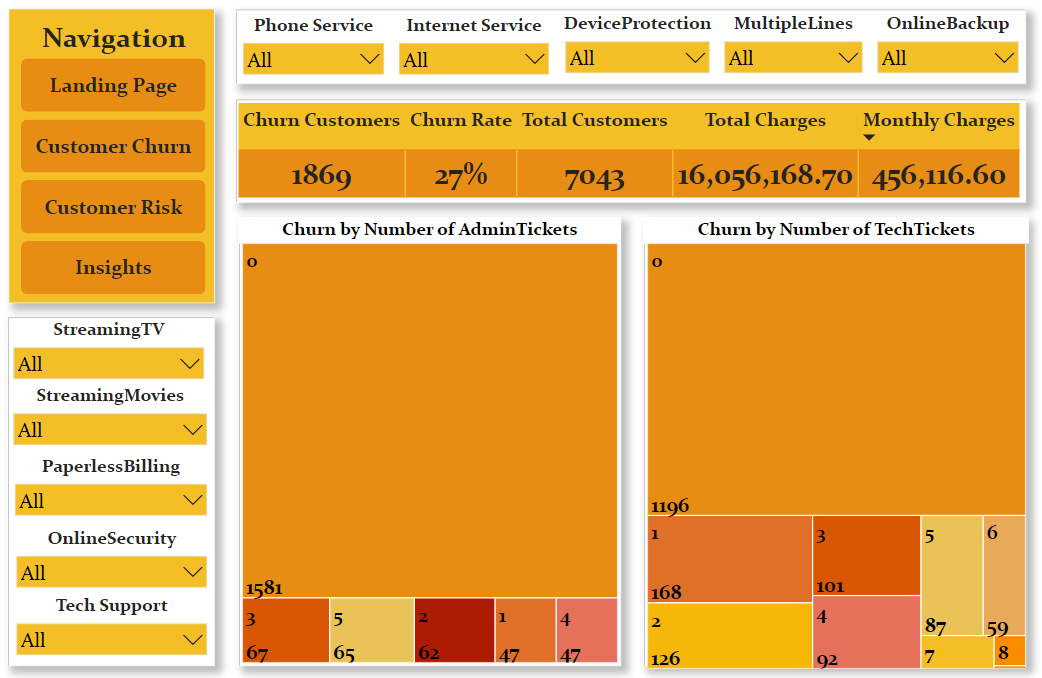

This screenshot's page, from the dashboard's own definition file:
{"tool":"powerbi","page":{"name":"Services","canvas":[1400,915],"ordinal":3},"visuals":[{"type":"shape","box":[14,430,276,466],"z":0},{"type":"shape","box":[318,140,1054,138],"z":1000},{"type":"shape","box":[318,20,1054,100],"z":2000},{"type":"slicer","title":"Tech Support","fields":{"Values":["02 Churn-Dataset.TechSupport"]},"box":[16,800,274,104],"z":3000},{"type":"slicer","title":"StreamingTV","fields":{"Values":["02 Churn-Dataset.StreamingTV"]},"box":[12,432,274,94],"z":4000},{"type":"slicer","title":"StreamingMovies","fields":{"Values":["02 Churn-Dataset.StreamingMovies"]},"box":[12,520,278,94],"z":5000},{"type":"slicer","title":"MultipleLines","fields":{"Values":["02 Churn-Dataset.MultipleLines"]},"box":[960,24,204,90],"z":6000},{"type":"slicer","title":"OnlineSecurity","fields":{"Values":["02 Churn-Dataset.OnlineSecurity"]},"box":[16,710,274,90],"z":7000},{"type":"slicer","title":"OnlineBackup","fields":{"Values":["02 Churn-Dataset.OnlineBackup"]},"box":[1164,24,208,92],"z":8000},{"type":"slicer","title":"PaperlessBilling","fields":{"Values":["02 Churn-Dataset.PaperlessBilling"]},"box":[14,614,276,90],"z":9000},{"type":"slicer","title":"Internet Service","fields":{"Values":["02 Churn-Dataset.InternetService"]},"box":[526,26,220,120],"z":10000},{"type":"slicer","title":"Phone Service","fields":{"Values":["02 Churn-Dataset.PhoneService"]},"box":[318,26,208,118],"z":11000},{"type":"tableEx","fields":{"Values":["Dax Measure.Churn Customers","Dax Measure.Churn Rate","Dax Measure.Total Customers","Dax Measure.Sum of Total Charges","Dax Measure.Total Monthly Charges"]},"box":[316,140,1064,138],"z":12000},{"type":"shape","box":[16,20,274,392],"z":13000},{"type":"pageNavigator","box":[32,86,246,316],"z":14000},{"type":"textbox","box":[6,30,300,74],"z":15000},{"type":"shape","box":[322,298,510,598],"z":16000},{"type":"slicer","title":"DeviceProtection","fields":{"Values":["02 Churn-Dataset.DeviceProtection"]},"box":[748,24,212,92],"z":17000},{"type":"treemap","title":"Churn by  Number of AdminTickets","fields":{"Group":["02 Churn-Dataset.numAdminTickets"],"Values":["Dax Measure.Churn Customers"]},"box":[322,298,510,598],"z":18000},{"type":"shape","box":[862,298,510,598],"z":19000},{"type":"treemap","title":"Churn by  Number of TechTickets","fields":{"Group":["02 Churn-Dataset.numTechTickets"],"Values":["Dax Measure.Churn Customers"]},"box":[862,298,514,606],"z":20000}]}

Visuals, with their boxes in screenshot pixels (x1, y1, x2, y2), scaled from the page's 1400x915 canvas onto the 1042x678 screenshot:
shape: (10,319,216,664)
shape: (237,104,1021,206)
shape: (237,15,1021,89)
"Tech Support" slicer: (12,593,216,670)
"StreamingTV" slicer: (9,320,213,390)
"StreamingMovies" slicer: (9,385,216,455)
"MultipleLines" slicer: (715,18,866,84)
"OnlineSecurity" slicer: (12,526,216,593)
"OnlineBackup" slicer: (866,18,1021,86)
"PaperlessBilling" slicer: (10,455,216,522)
"Internet Service" slicer: (391,19,555,108)
"Phone Service" slicer: (237,19,391,107)
tableEx - Dax Measure.Churn Customers x Dax Measure.Churn Rate: (235,104,1027,206)
shape: (12,15,216,305)
pageNavigator: (24,64,207,298)
textbox: (4,22,228,77)
shape: (240,221,619,664)
"DeviceProtection" slicer: (557,18,715,86)
"Churn by  Number of AdminTickets" treemap: (240,221,619,664)
shape: (642,221,1021,664)
"Churn by  Number of TechTickets" treemap: (642,221,1024,670)
